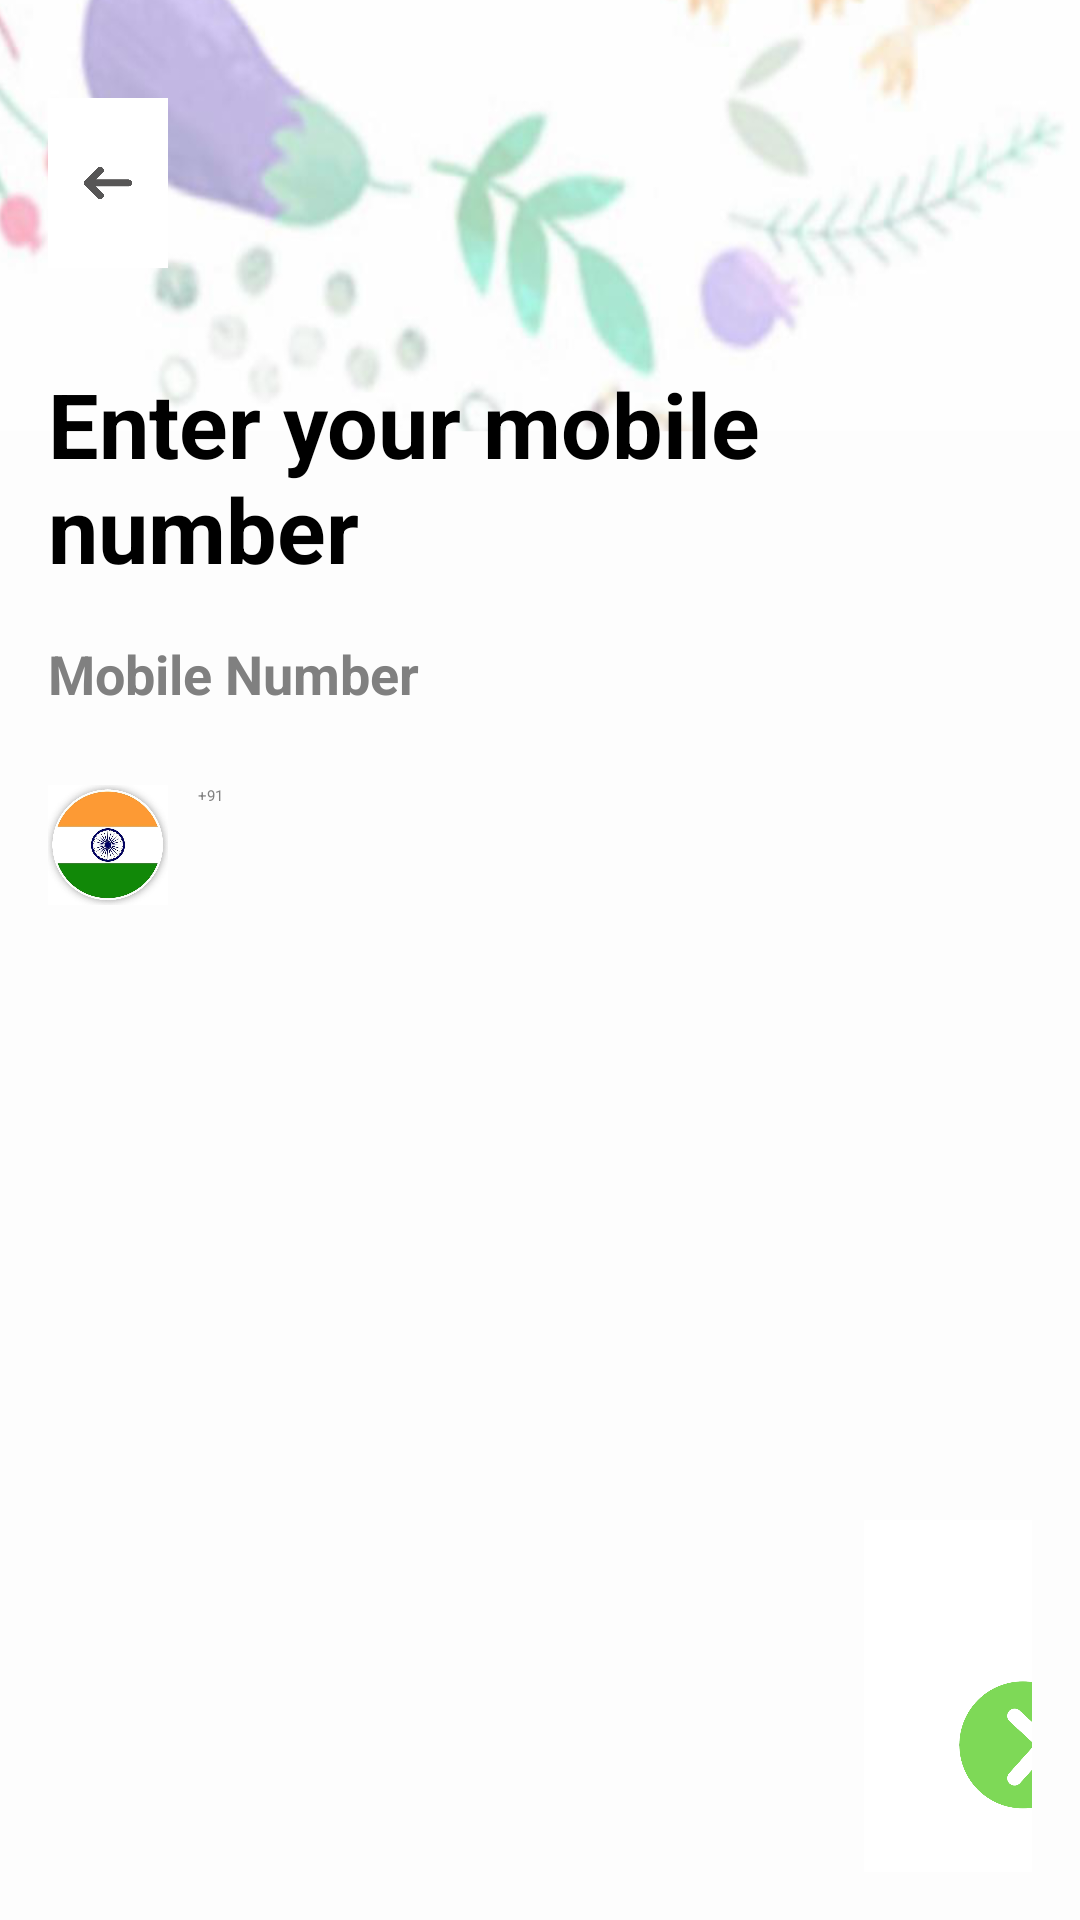

Icons on this 1080×1920 Android screen, each with its box as (x1, y1, x2, y2):
projectpic: (50, 787, 166, 903)
